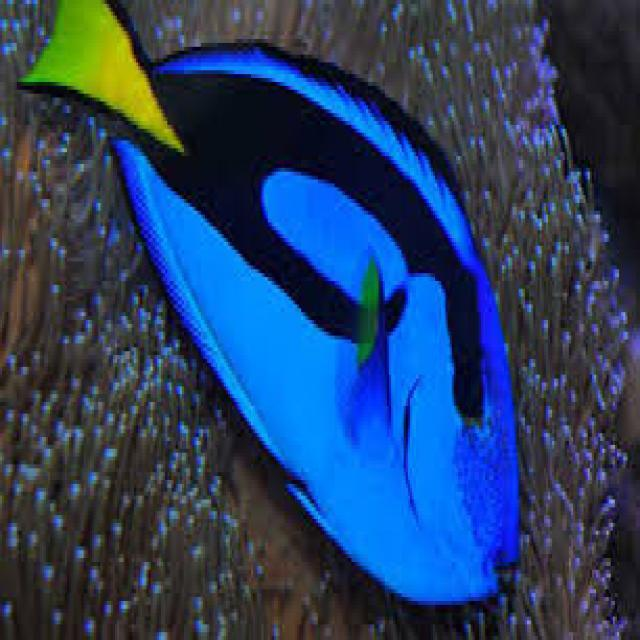BlueTang: (49, 0, 530, 603)
